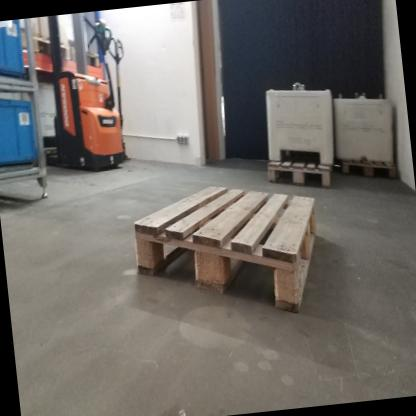BoxFace: (131, 182, 320, 317)
